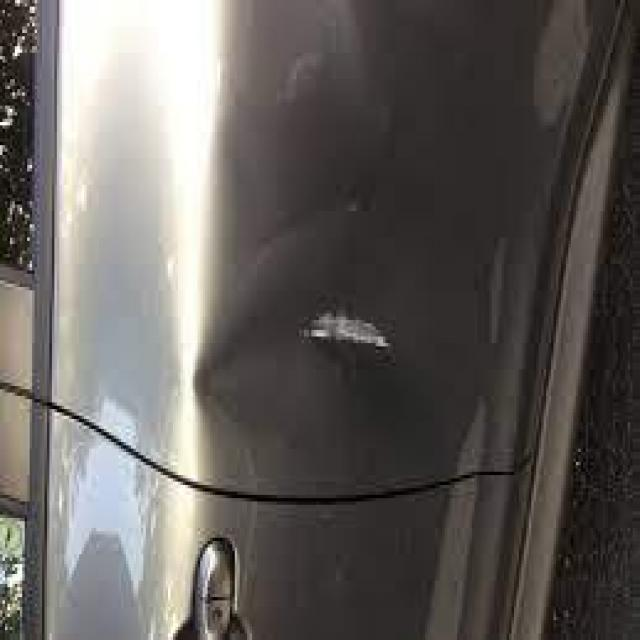dent: (190, 206, 482, 506)
